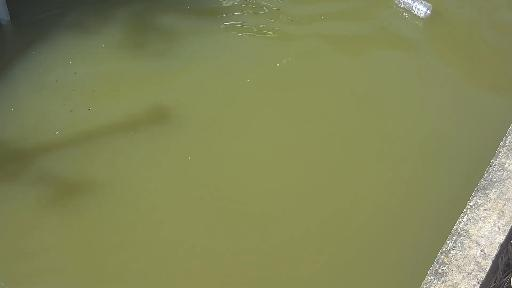plastic: (385, 0, 438, 22)
